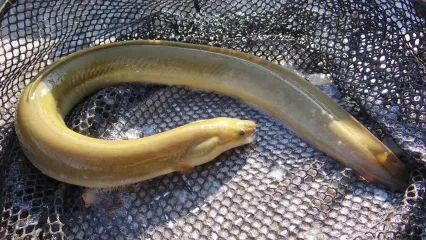Freshwater Eel: (16, 38, 414, 204)
